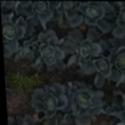cabbage: (42, 91, 59, 111), (74, 89, 92, 107), (87, 2, 105, 19), (36, 46, 57, 60), (32, 0, 51, 15), (1, 24, 19, 39), (75, 44, 88, 60), (93, 62, 110, 74), (114, 51, 125, 68), (61, 0, 74, 9), (120, 6, 125, 23), (123, 101, 125, 119)
